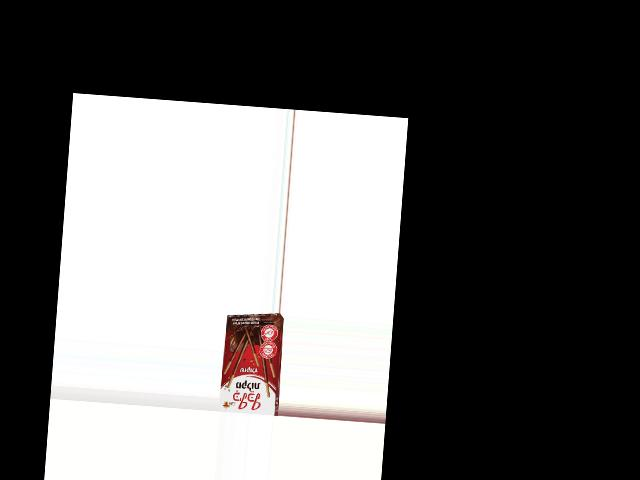chocolate: (218, 316, 284, 415)
